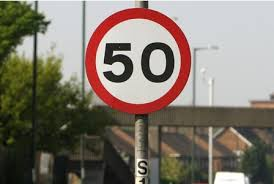Speed_limit_50km: (85, 9, 190, 111)
